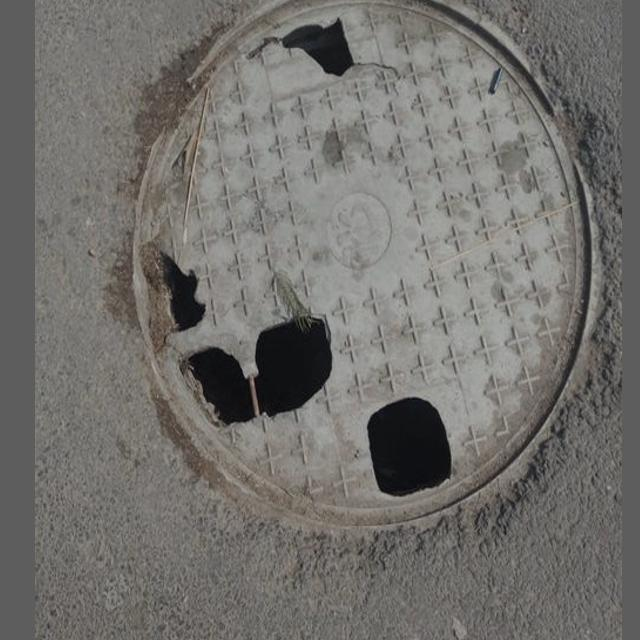broke: (98, 0, 603, 550)
